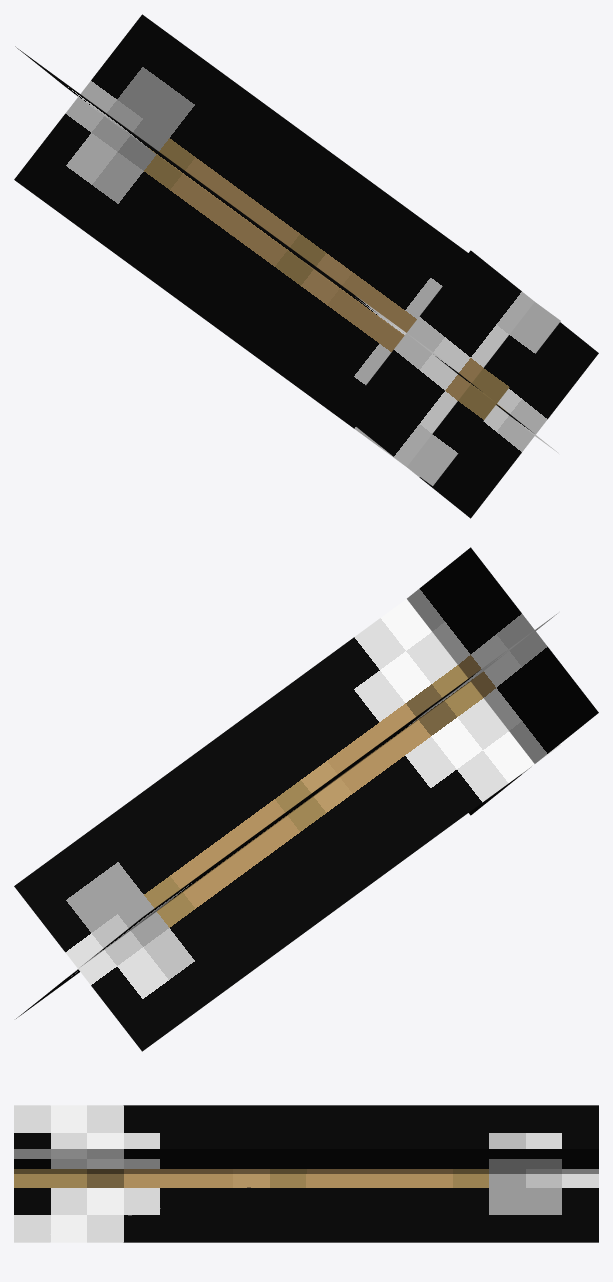
File: arrow.gltf
3 renders of one model, top to bottom at view 1: azimuth 30°, elevation 25°; view 2: azimuth 150°, elevation 25°; view 3: azimuth 270°, elevation 25°, orthographic. The views are drawn at different scales.
Visible parts, largest first — view 1: cross_1, back, cross_2; view 2: cross_1, back, cross_2; view 3: cross_2, cross_1.
Part boxes in pixels (<box>): cross_1: <box>14,14,560,485</box>; back: <box>342,250,598,518</box>; cross_2: <box>15,46,558,453</box>; cross_1: <box>14,599,560,1051</box>; back: <box>407,547,598,815</box>; cross_2: <box>16,613,557,1018</box>; cross_2: <box>14,1105,598,1242</box>; cross_1: <box>14,1149,598,1173</box>.
Size of the model in its own units: 0.3536 by 0.3536 by 1.
Materials: 1 (1 with a texture image).
